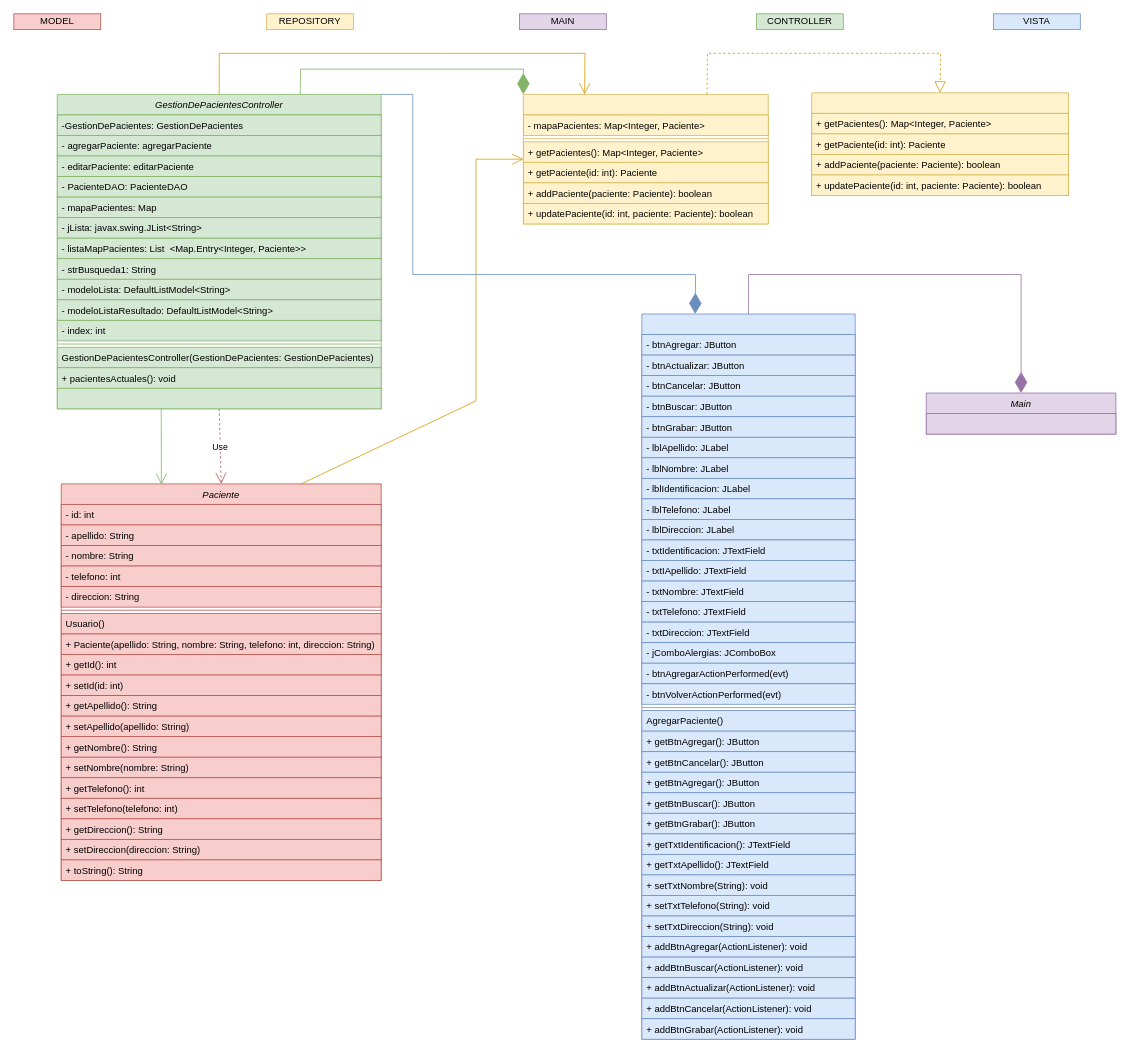
Image size: 1130x1055. Some labels were removed from this diagram. Each missing label, with the box of its shape:
+ actualizarJListaPacientes(): void: (56, 387, 381, 409)
- main(args: String[]): (925, 413, 1116, 434)
GestionDePacientes: (641, 313, 855, 1039)
PacienteDAO: (523, 94, 768, 224)
PacienteDAOInterface: (811, 92, 1068, 196)
